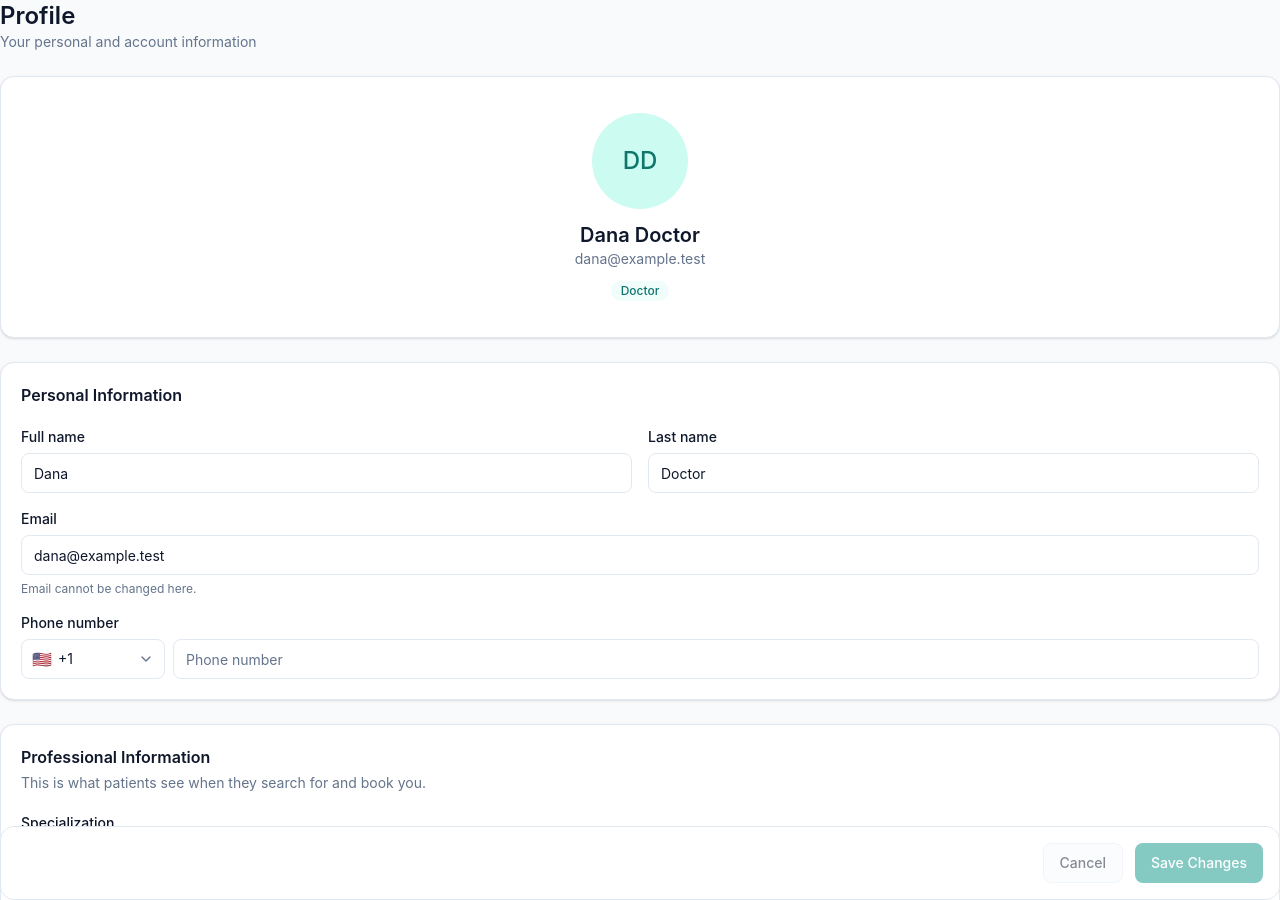
Test: DoctorProfilePage › warns before discarding unsaved changes via Cancel, and reverts them on confirm
Replace the text in the field labelled "Full name" with "Danielle" at (326, 473), box 21,453 -> 632,493
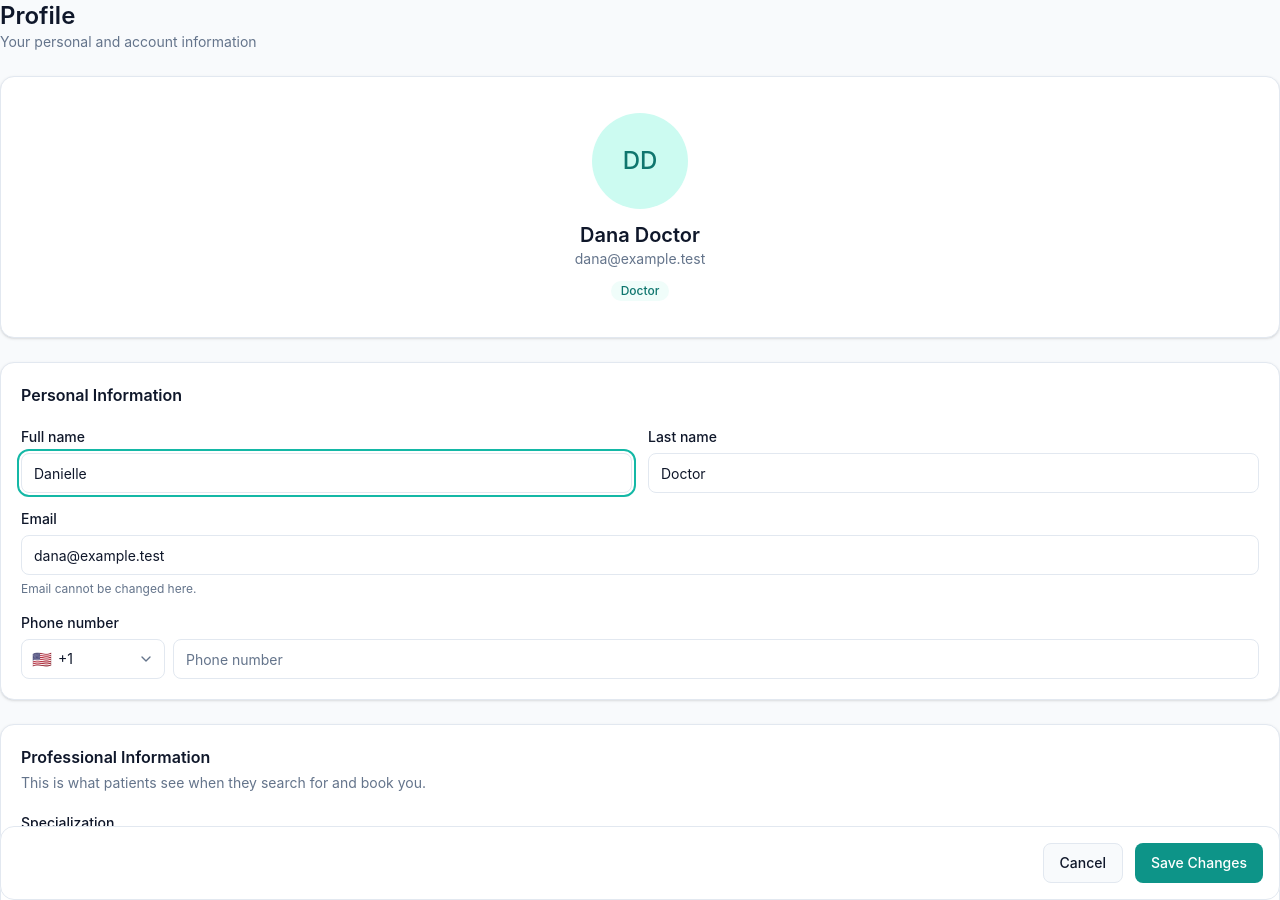
Click the button "Cancel".
click(1083, 863)  # box 1042,843 -> 1123,883
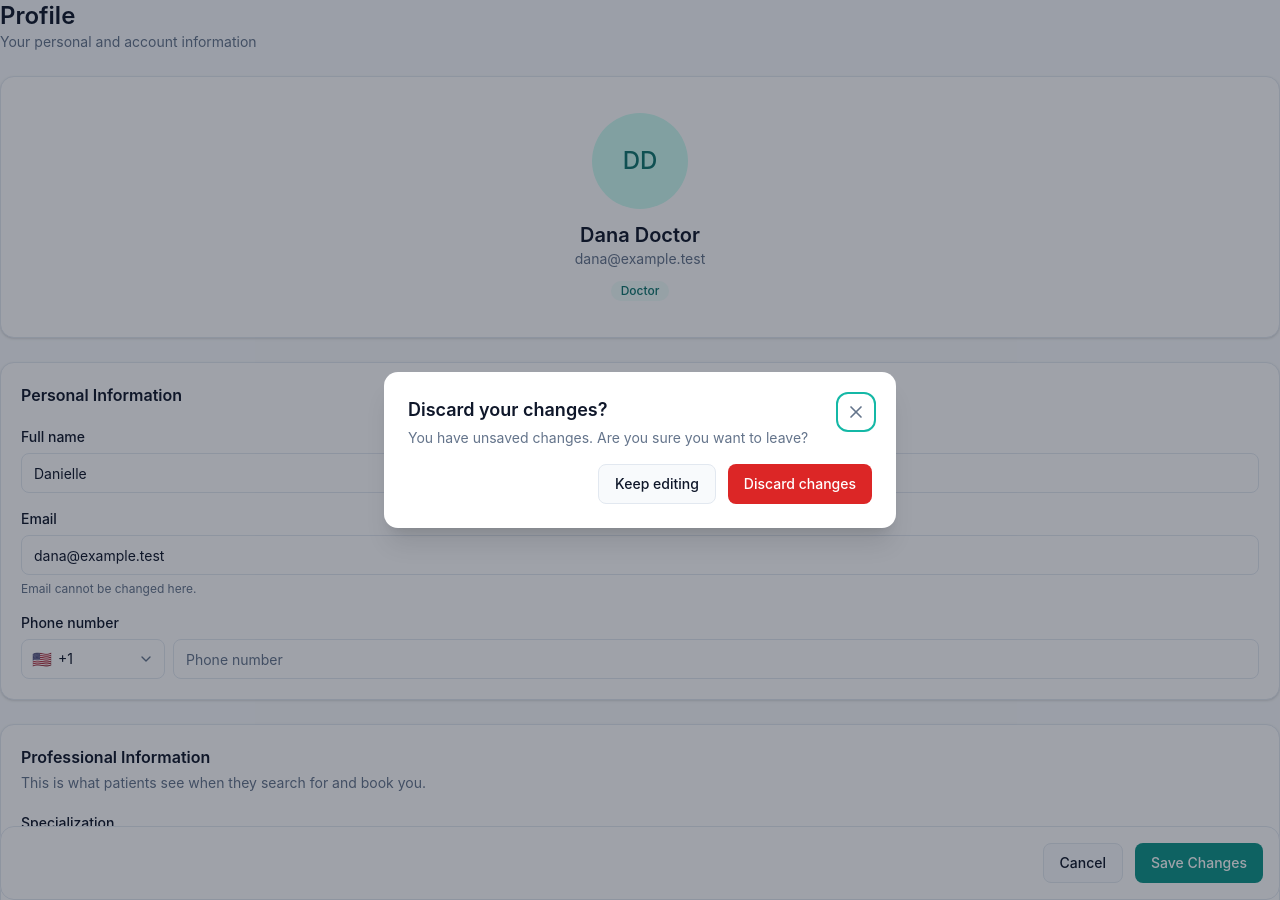
Result: the heading "Discard your changes?" is shown at 408,399 -> 608,420
Click the button "Discard changes".
click(800, 484)  # box 728,464 -> 872,504
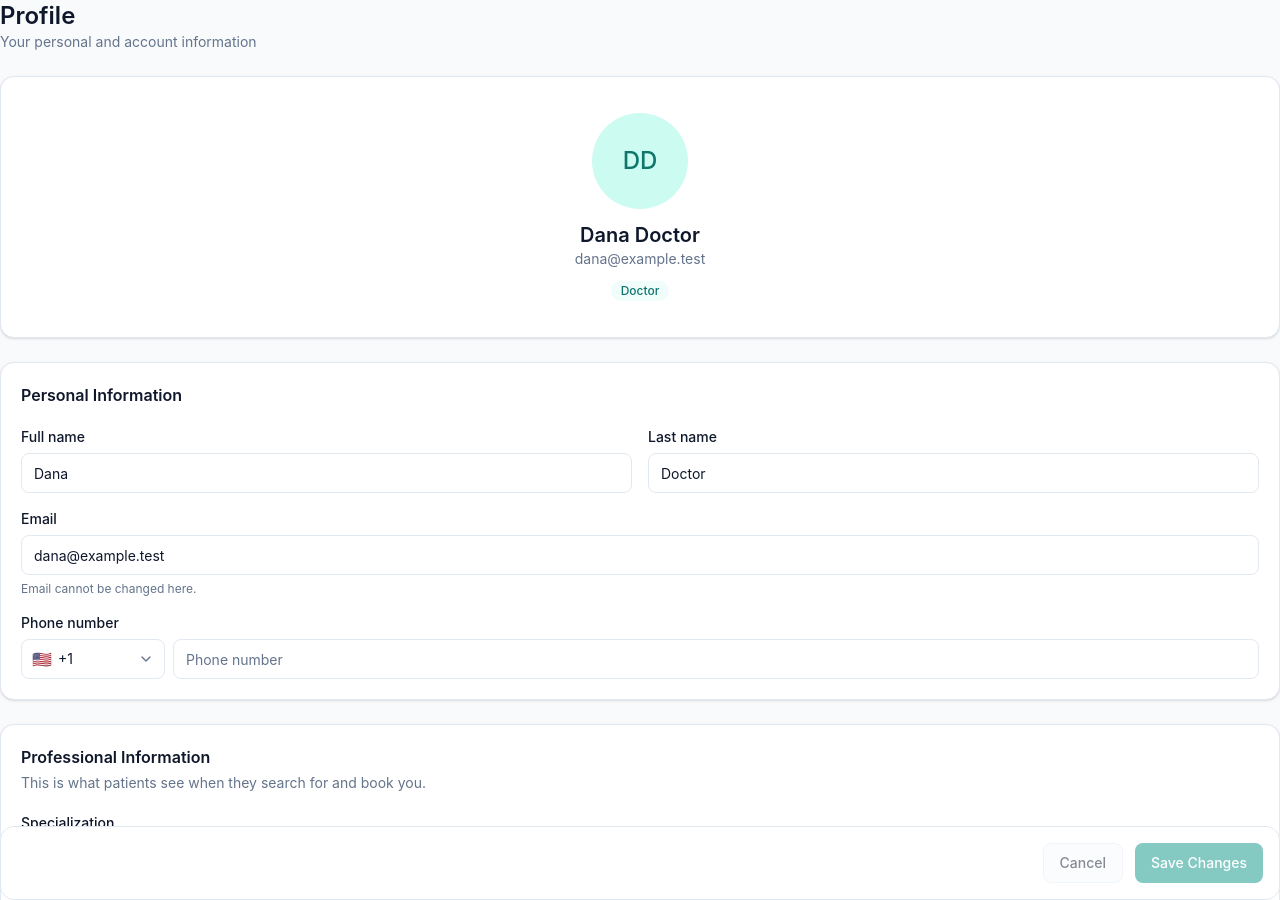
Result: the field showing "Dana" is shown at 21,453 -> 632,493
